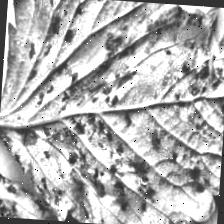Angular Leafspot: (0, 0, 224, 224), (0, 123, 102, 223)
